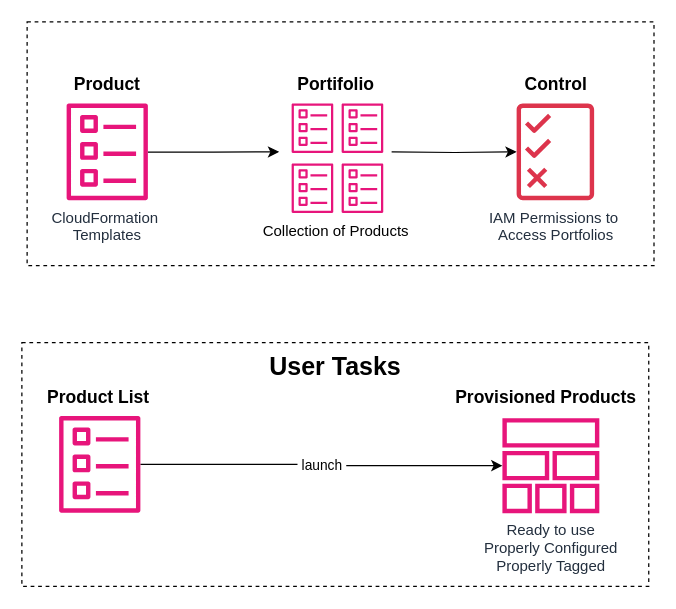
The diagram is 676 pixels wide and 609 high, and some of its shapes have lost their labels. The box of each missing label's shape, as (x1, y1, x2, y2) in pixels:
Admin Tasks: (26, 21, 654, 266)
Authorized by IAM: (58, 415, 140, 512)
